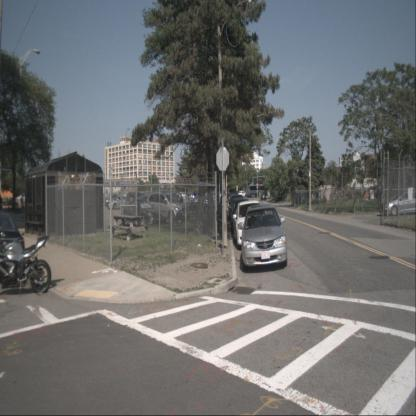vehicle-bus-rigid: (247, 184, 268, 197)
vehicle-car: (242, 204, 288, 272), (233, 200, 266, 250), (0, 213, 25, 275), (146, 191, 190, 225), (122, 200, 162, 227), (380, 192, 416, 217), (231, 198, 252, 234), (183, 196, 214, 214), (126, 192, 150, 212), (228, 194, 246, 220), (108, 195, 130, 210), (238, 190, 246, 198), (260, 193, 266, 202)
vehicle-motorcycle: (0, 232, 51, 294)
